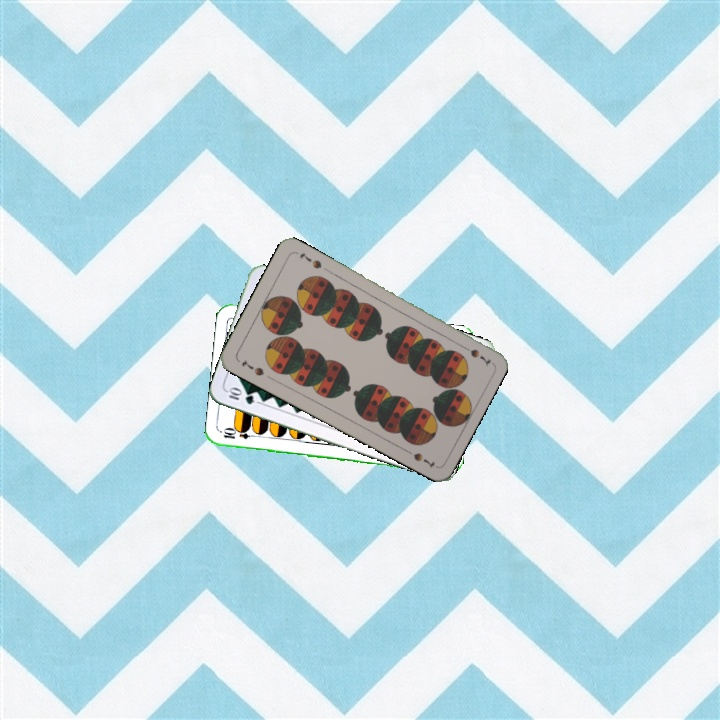E10: (219, 426, 260, 442)
G10: (223, 384, 257, 407)
S7: (238, 356, 267, 379), (456, 340, 482, 360)
